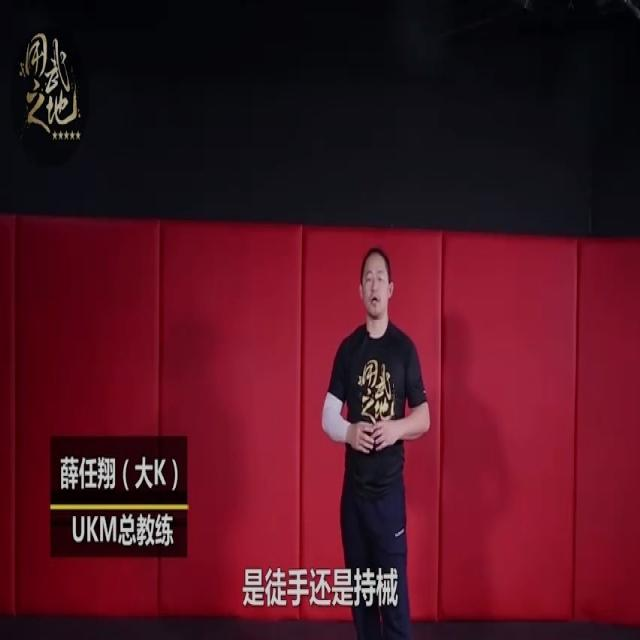non-fight: (314, 240, 433, 639)
